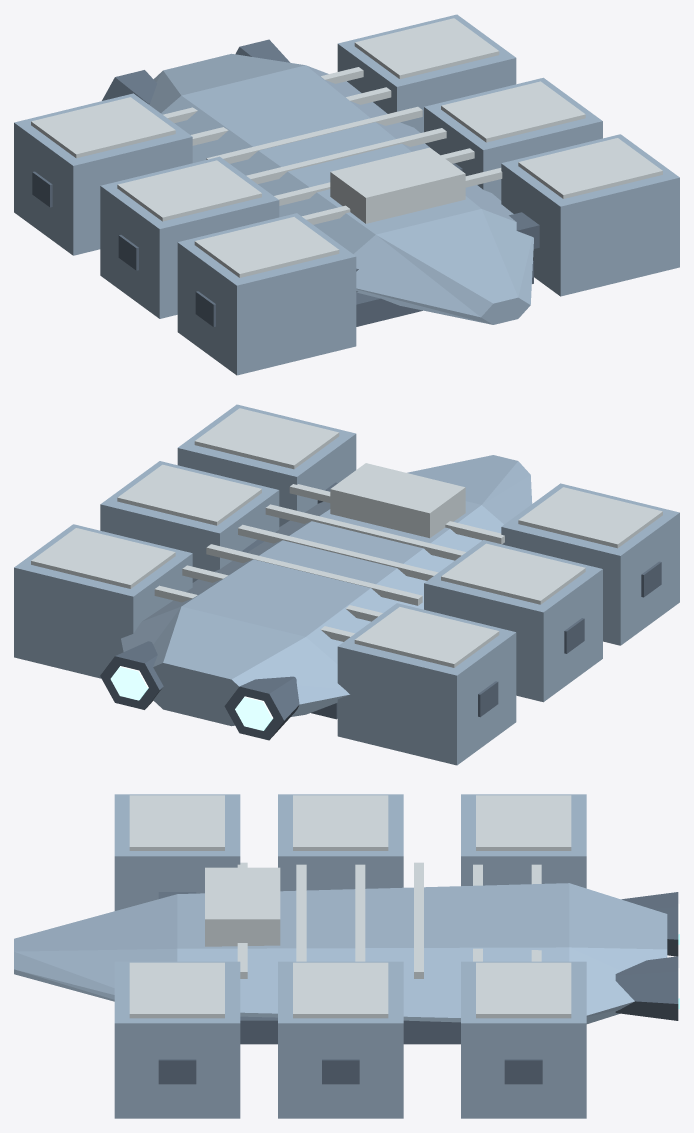
3 renders of one model, top to bottom at view 1: azimuth 30°, elevation 25°; view 2: azimuth 150°, elevation 25°; view 3: azimuth 270°, elevation 25°, orthographic. The views are drawn at different scales.
Size of the model in its own units: 7.85 by 1.75 by 9.54.
